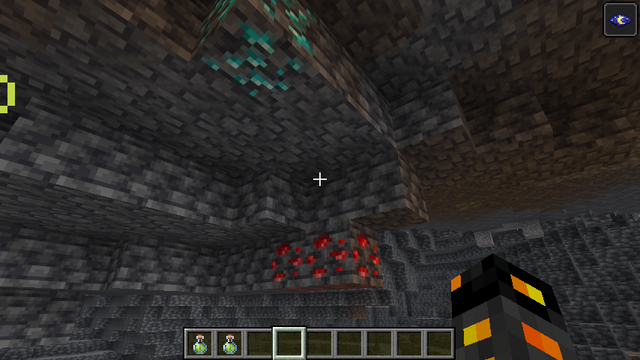diamond: (191, 1, 313, 106)
redstone: (270, 224, 383, 291)
